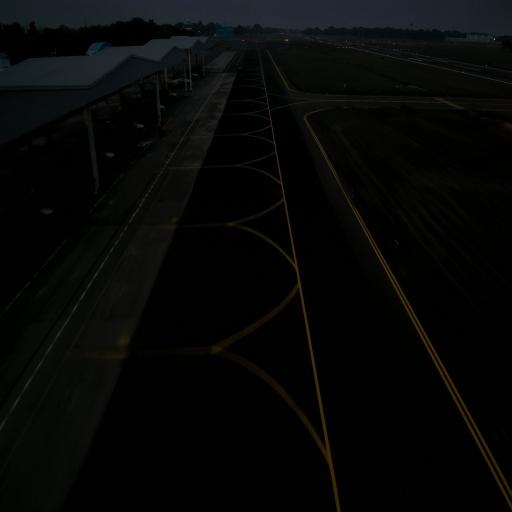on: (395, 238, 400, 248)
